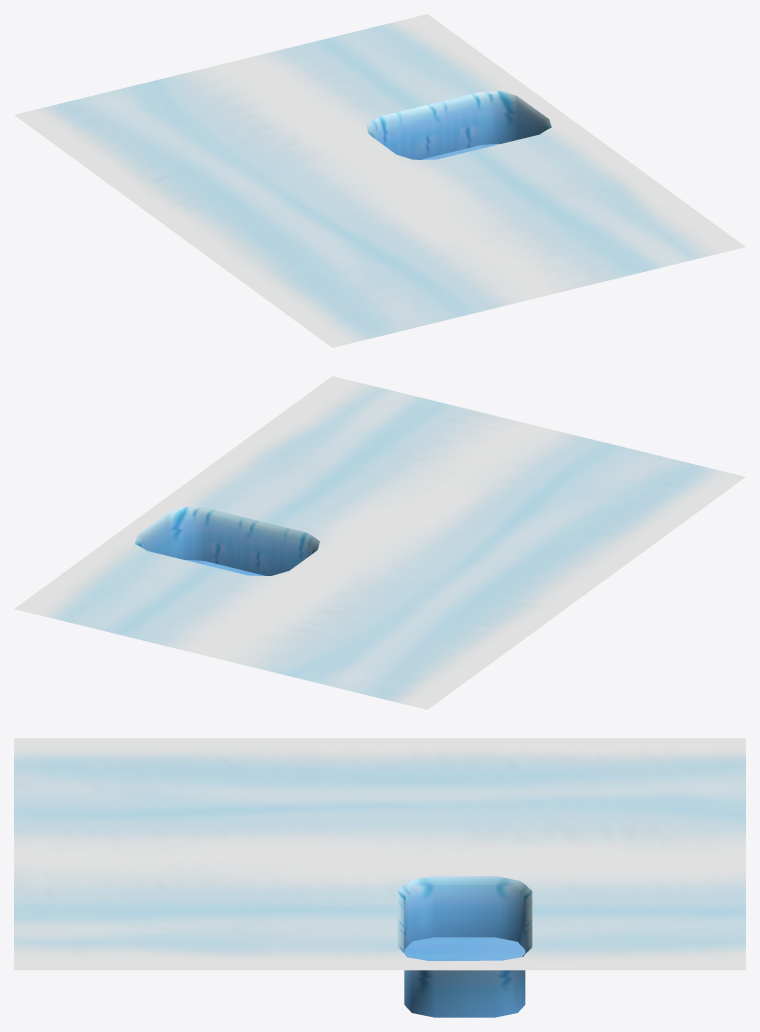
Rendered from Hole_M_Size_06.FBX.
The picture shows the model from 3 angles, top to bottom: view 1: azimuth 30°, elevation 25°; view 2: azimuth 150°, elevation 25°; view 3: azimuth 270°, elevation 25°; orthographic projection. The views are drawn at different scales.
Parts seen in each view (by area): view 1: modelRoad071; view 2: modelRoad071; view 3: modelRoad071.
Boxes of the visible parts, box(x1,y1,x2,y2) form: modelRoad071: box(14, 14, 745, 347); modelRoad071: box(14, 376, 745, 709); modelRoad071: box(14, 738, 745, 1017).
Bounding box in the file's own units: 600 × 70 × 800.
